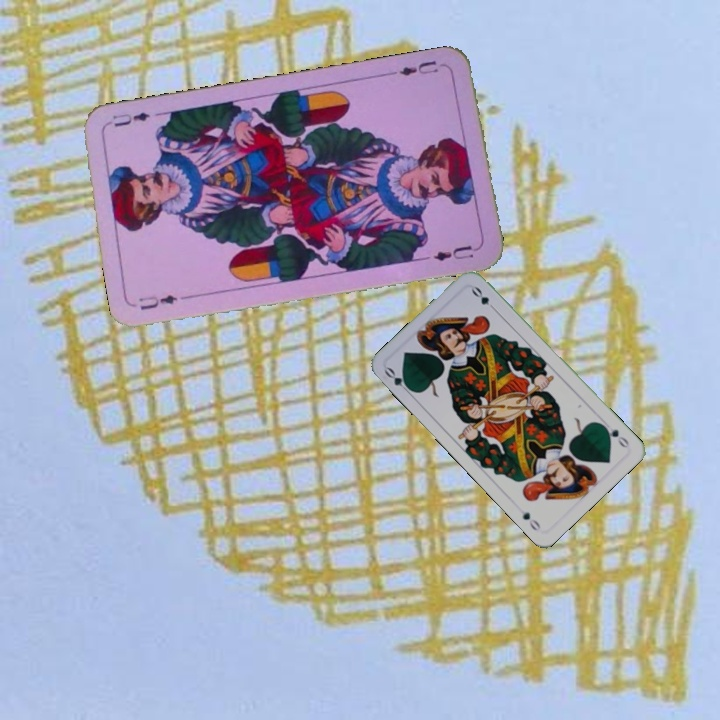EU: (388, 56, 441, 79), (135, 290, 180, 313)
GO: (380, 363, 416, 397), (598, 420, 632, 451)
